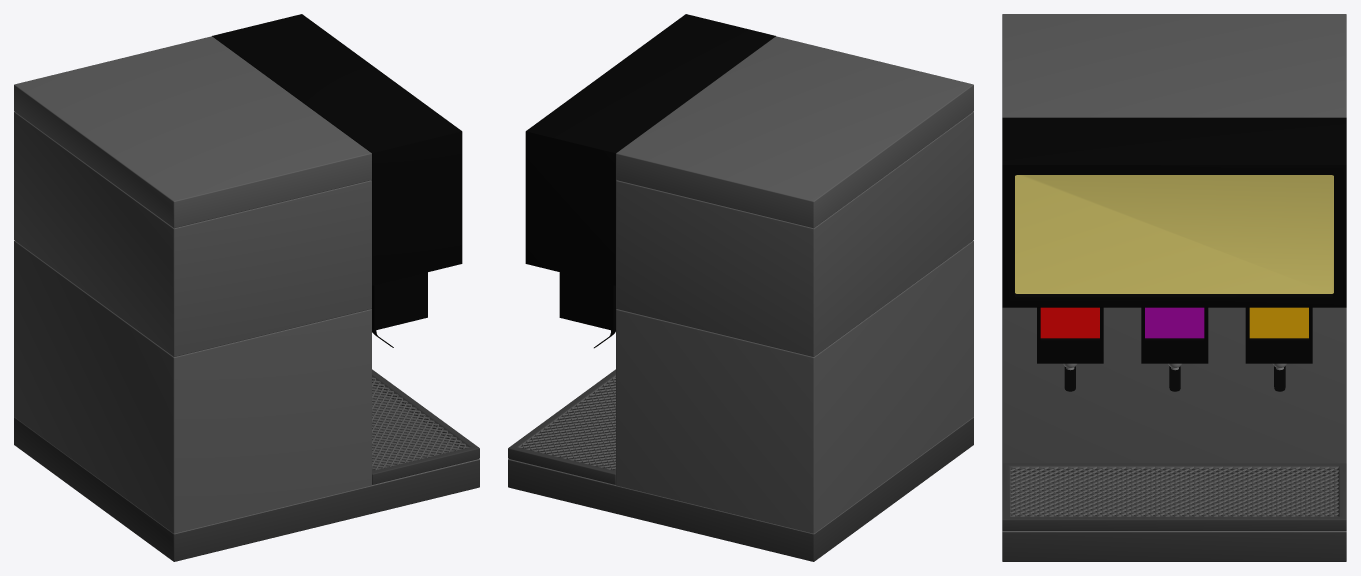
The model's file is 速食店.fbx_Soda_Machines.fbx.
3 views of the same model, side by side, from view 1: azimuth 30°, elevation 25°; view 2: azimuth 150°, elevation 25°; view 3: azimuth 270°, elevation 25° (orthographic). The views are drawn at different scales.
Visible parts, largest first — view 1: Soda Machine; view 2: Soda Machine; view 3: Soda Machine.
Part boxes in pixels (left/top/right/bottom): Soda Machine: left=14, top=14, right=479, bottom=561; Soda Machine: left=508, top=14, right=973, bottom=561; Soda Machine: left=1002, top=14, right=1346, bottom=561.
Size of the model in its own units: 135 by 152 by 122.
